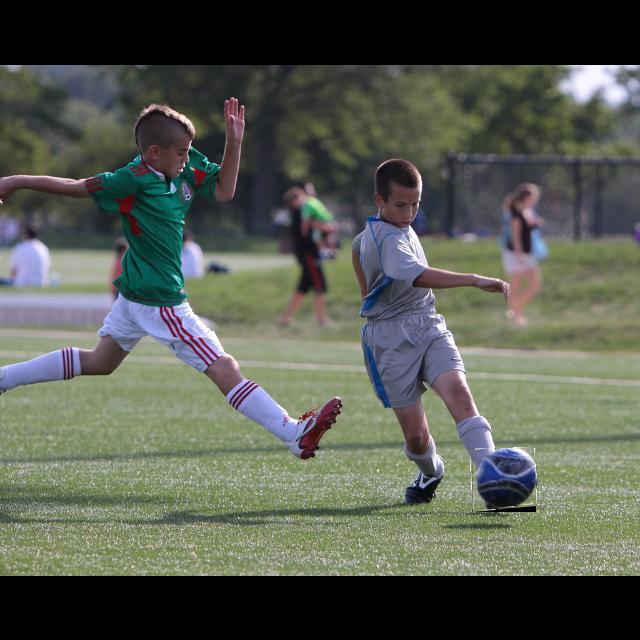Football: (472, 448, 536, 512)
